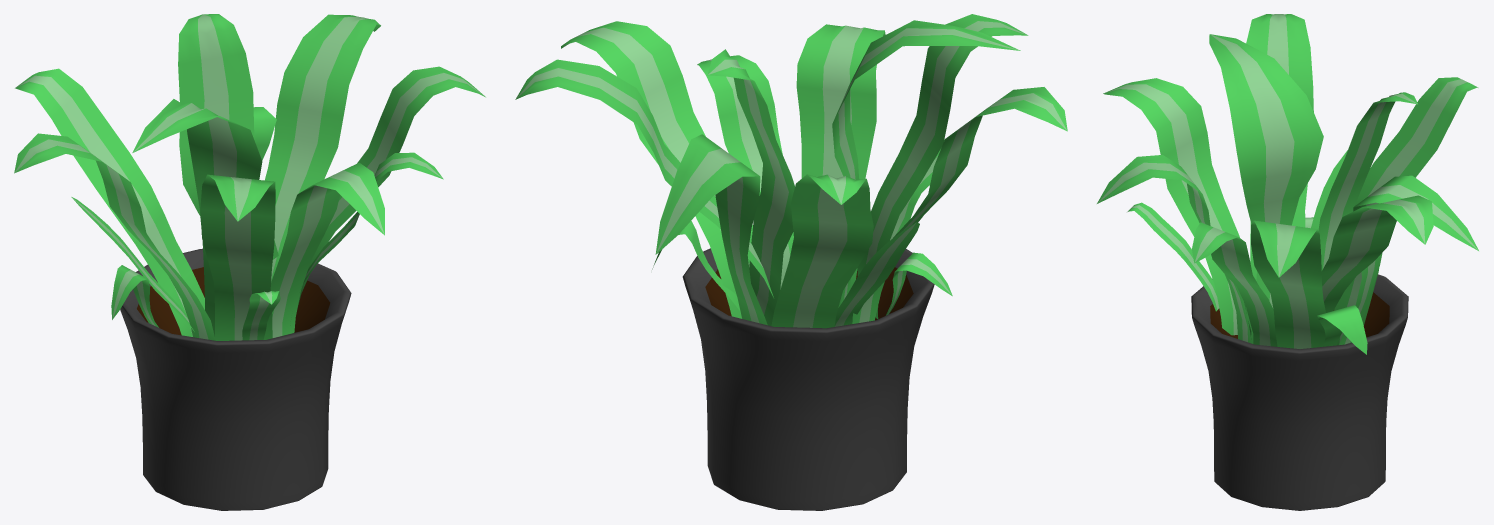
File: plant.fbx
The picture shows the model from 3 angles, left to right: view 1: azimuth 30°, elevation 25°; view 2: azimuth 150°, elevation 25°; view 3: azimuth 270°, elevation 25°; orthographic projection. The views are drawn at different scales.
Visible parts, largest first — view 1: pCylinder2; view 2: pCylinder2; view 3: pCylinder2.
Part boxes in pixels (x1,y1,x2,y2): pCylinder2: (14,14,485,510); pCylinder2: (515,14,1067,510); pCylinder2: (1097,14,1478,510).
Size of the model in its own units: 16.69 by 13.97 by 12.4.
